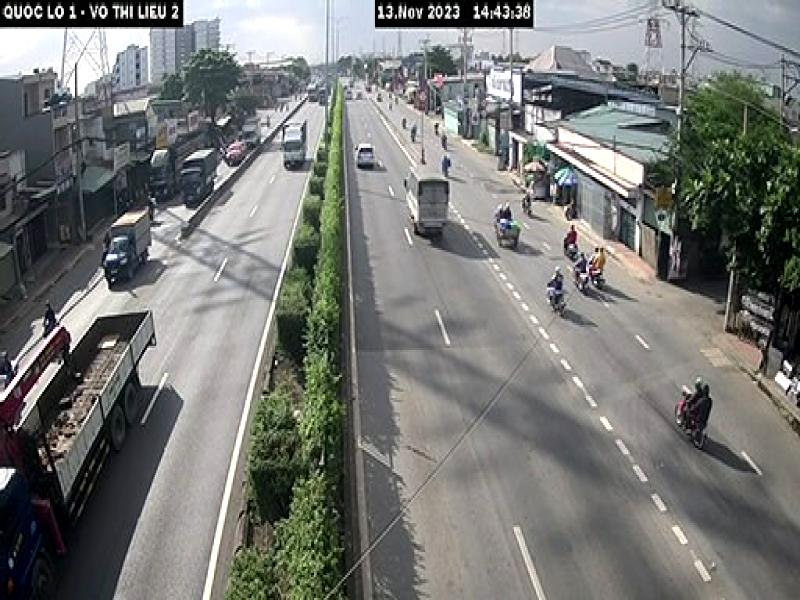truck: (101, 208, 156, 286)
